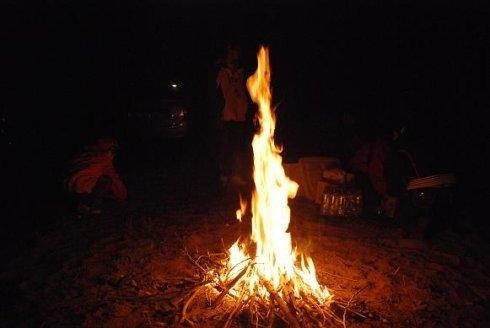fire: (226, 32, 312, 303)
